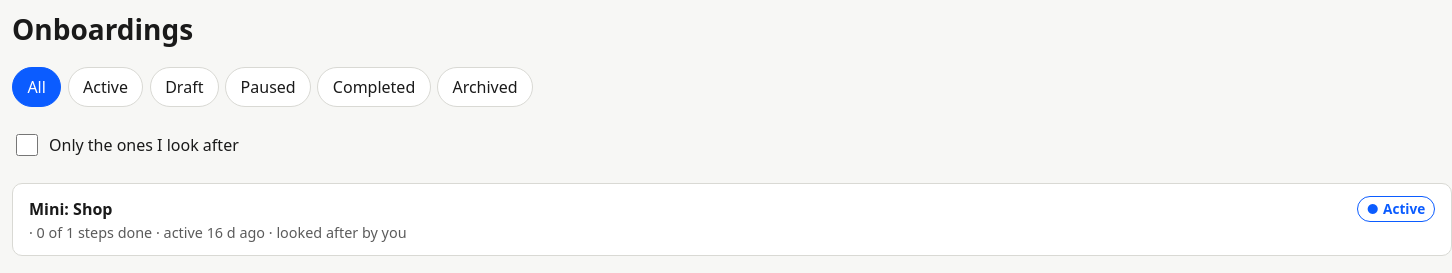
Test: assigning › "only the ones I look after" asks the server for yours
This screenshot has width=1452, height=273.
Expected: the text "· 0 of 1 steps done · active 16 d ago · looked after by you" is shown, left=29, top=223, right=406, bottom=242
Click the checkbox labelled "Only the ones I look after" at coordinates (27, 145), box left=16, top=134, right=38, bottom=156
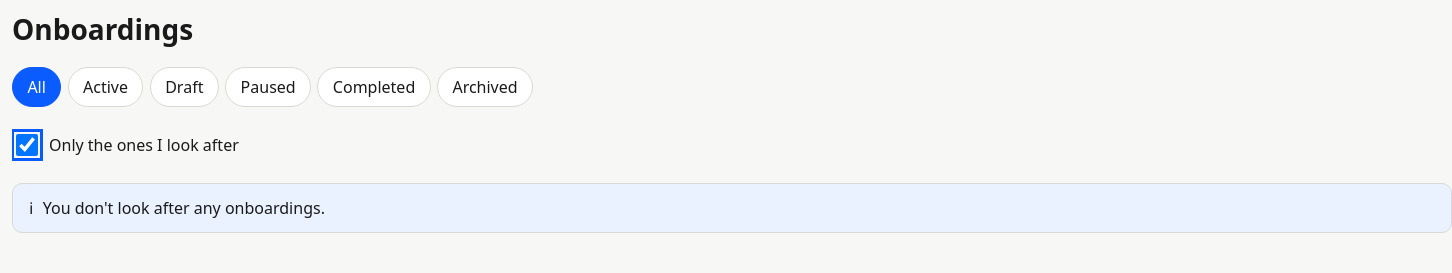
Expected: the text "You don't look after any onboardings." is shown, left=43, top=196, right=325, bottom=220
